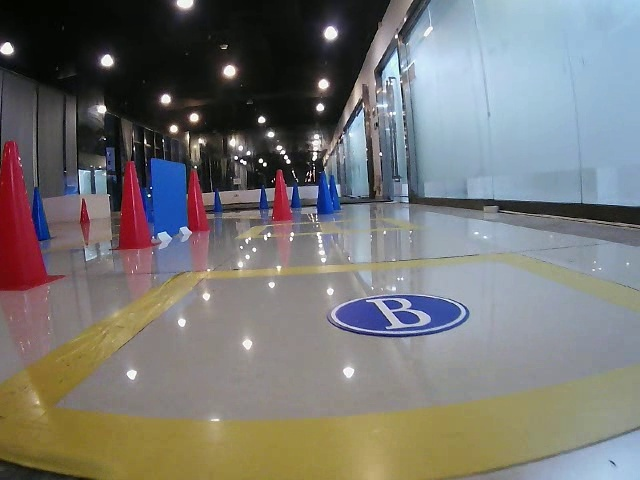B: (329, 291, 466, 336)
